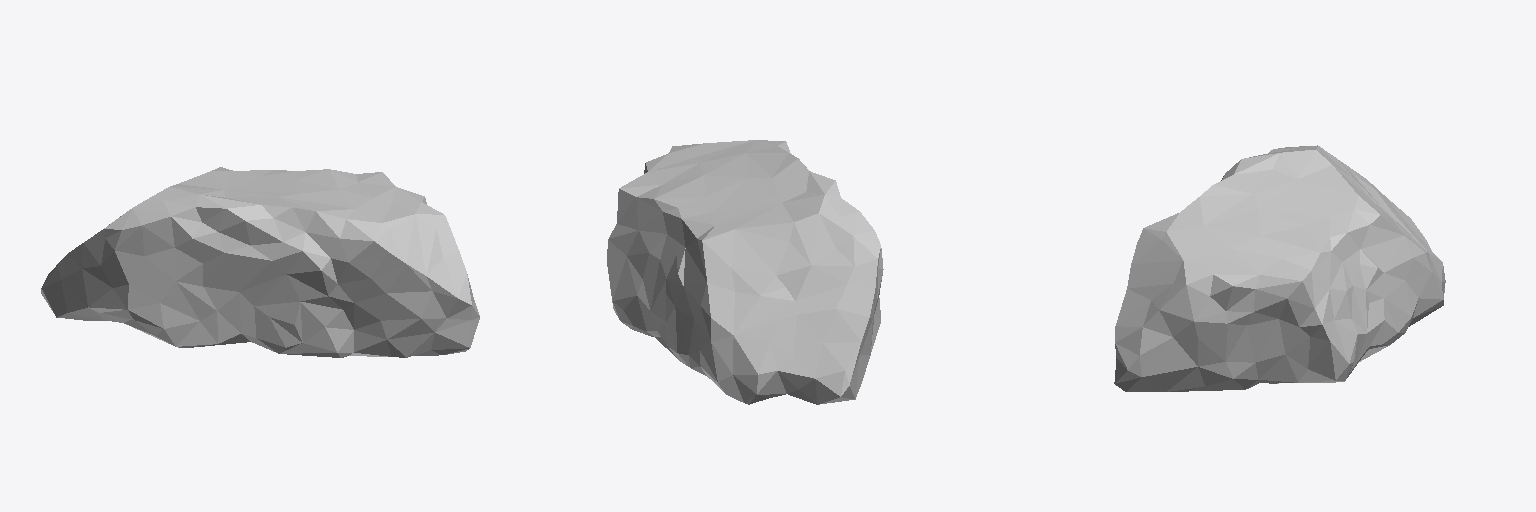
The picture shows the model from 3 angles: view 1: azimuth 30°, elevation 25°; view 2: azimuth 150°, elevation 25°; view 3: azimuth 270°, elevation 25°; orthographic projection.
Parts seen in each view (by area): view 1: Mesh1 skpD4_1 Model; view 2: Mesh1 skpD4_1 Model; view 3: Mesh1 skpD4_1 Model.
Part boxes in pixels (x1,y1,x2,y2): Mesh1 skpD4_1 Model: (41, 167, 479, 357); Mesh1 skpD4_1 Model: (607, 140, 883, 404); Mesh1 skpD4_1 Model: (1114, 145, 1445, 391).
Bounding box in the file's own units: 1.1 × 0.5333 × 1.06.